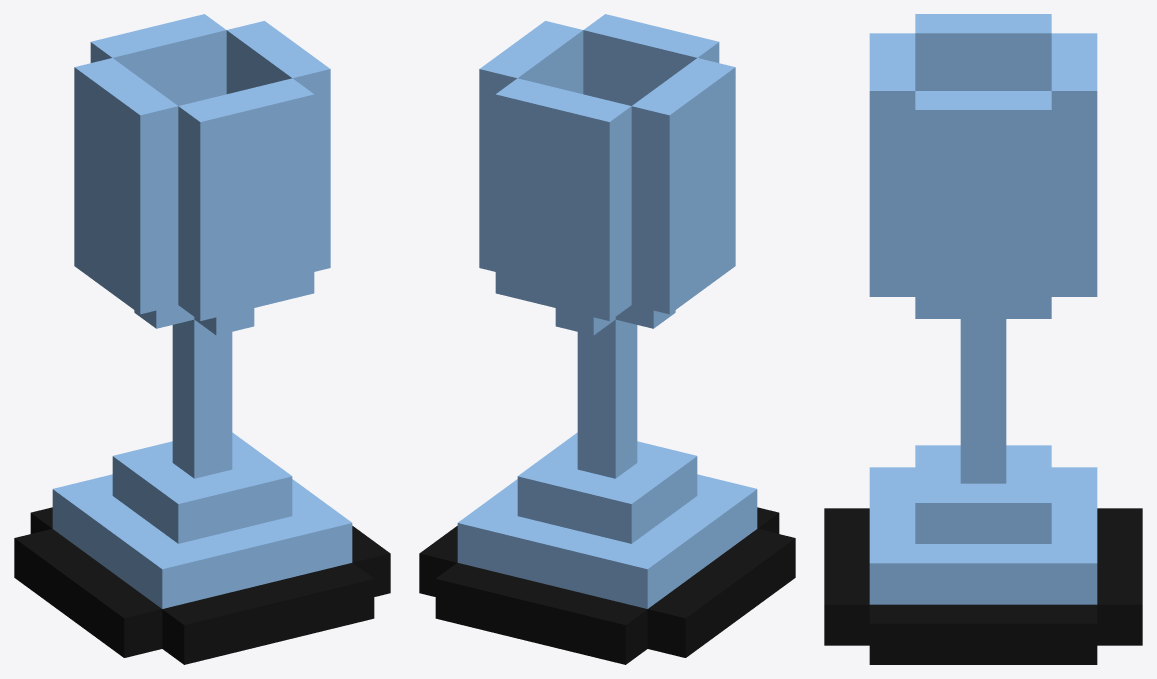
Rendered from trophy platinum B.obj.
The picture shows the model from 3 angles, left to right: view 1: azimuth 30°, elevation 25°; view 2: azimuth 150°, elevation 25°; view 3: azimuth 270°, elevation 25°; orthographic projection. The views are drawn at different scales.
Parts seen in each view (by area): view 1: trophy platinum B; view 2: trophy platinum B; view 3: trophy platinum B.
Part boxes in pixels (x1=…): trophy platinum B: x1=14, y1=14, x2=390, y2=664; trophy platinum B: x1=419, y1=14, x2=795, y2=664; trophy platinum B: x1=824, y1=14, x2=1142, y2=664.
Size of the model in its own units: 7 by 13 by 7.
Materials: 1 (1 with a texture image).
